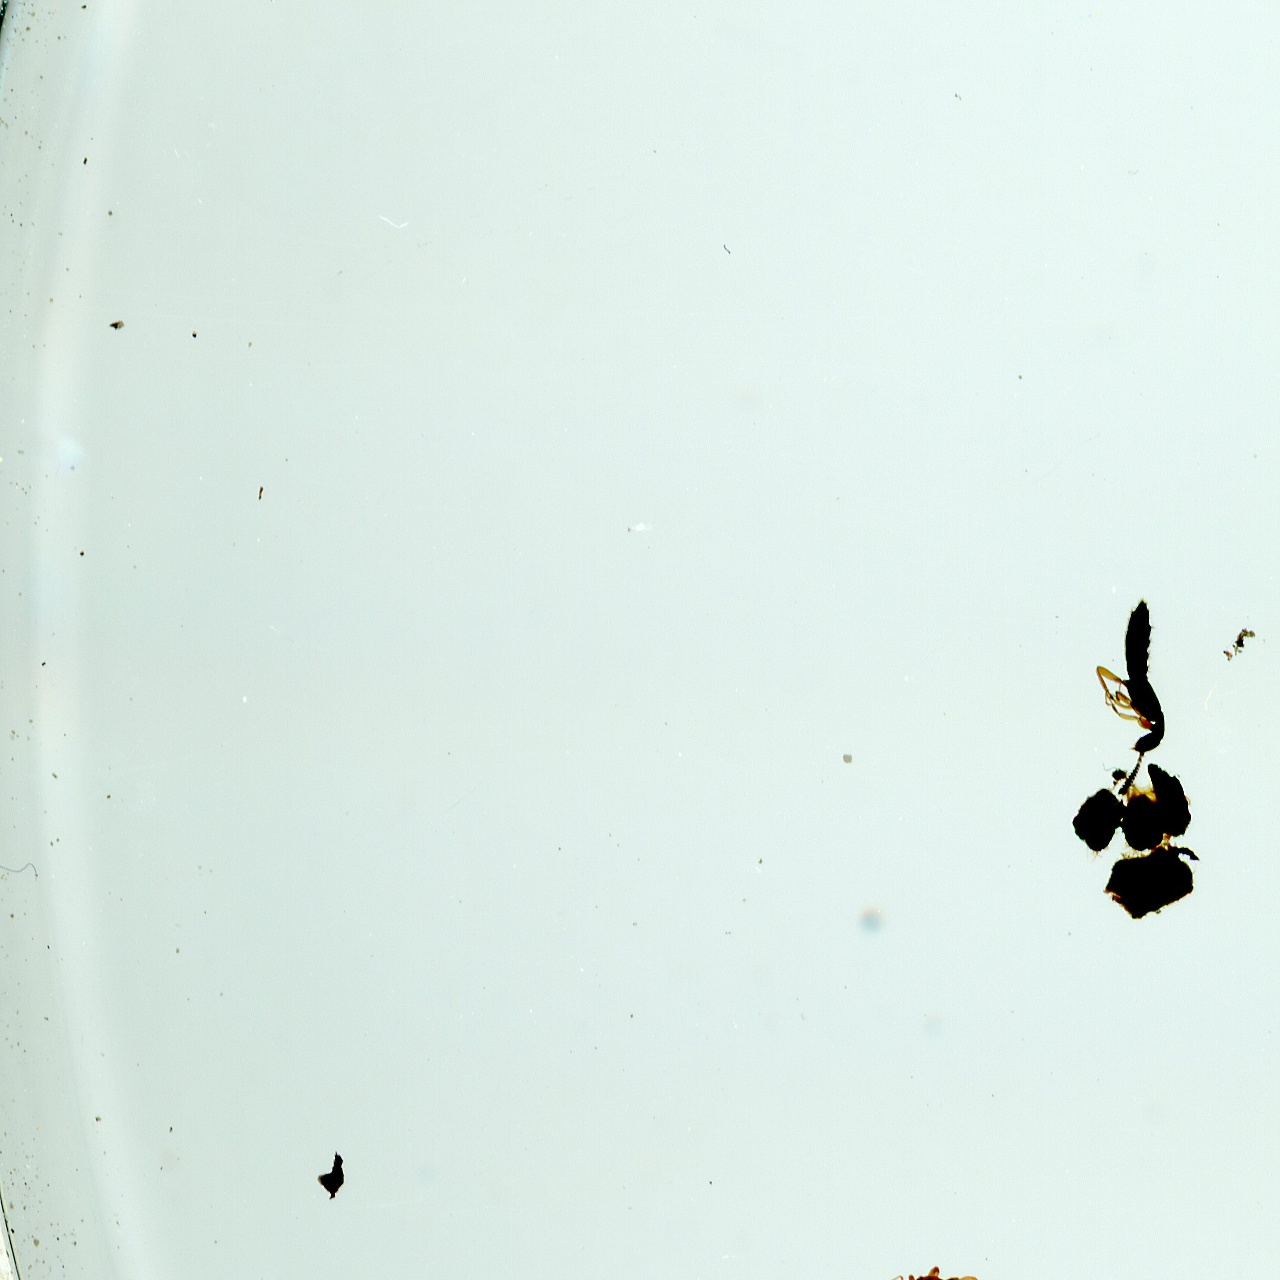arthropod: (1093, 591, 1173, 802), (861, 1261, 990, 1280)
